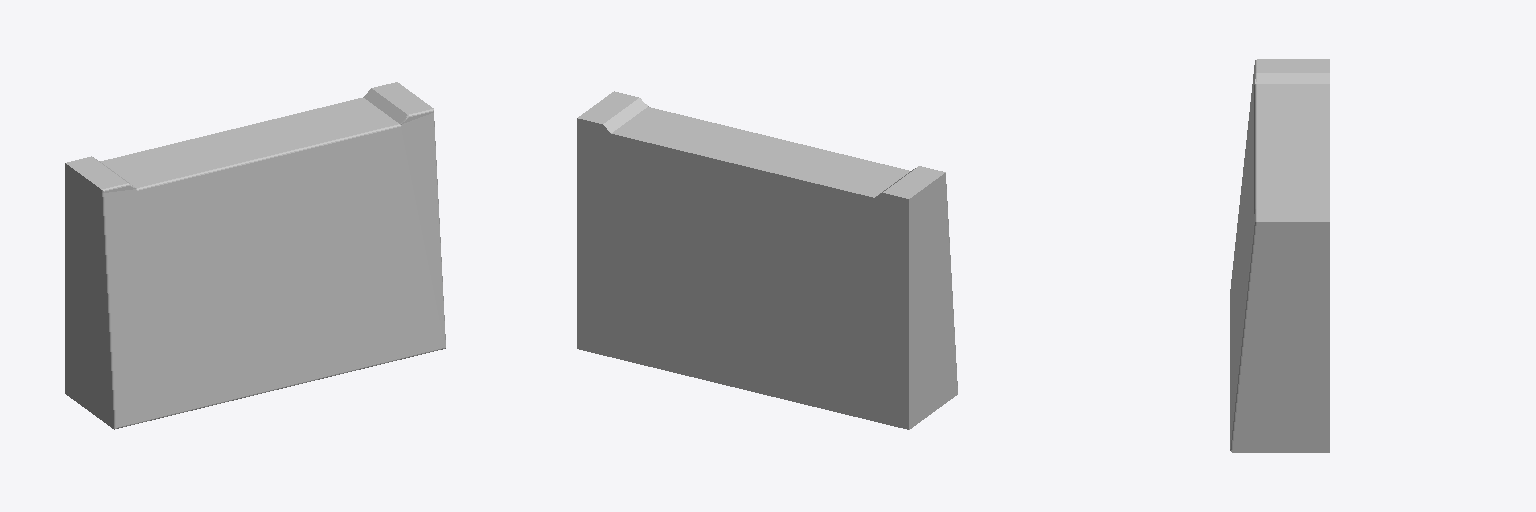
Rendered from couch_back.obj.
The picture shows the model from 3 angles: view 1: azimuth 30°, elevation 25°; view 2: azimuth 150°, elevation 25°; view 3: azimuth 270°, elevation 25°; orthographic projection.
Visible parts, largest first — view 1: Cube.001_Cube.008; view 2: Cube.001_Cube.008; view 3: Cube.001_Cube.008.
Boxes of the visible parts, x1=… form: Cube.001_Cube.008: x1=65, y1=82, x2=445, y2=429; Cube.001_Cube.008: x1=577, y1=91, x2=957, y2=429; Cube.001_Cube.008: x1=1230, y1=59, x2=1329, y2=452.
Size of the model in its own units: 5.12 by 3.4 by 1.32.